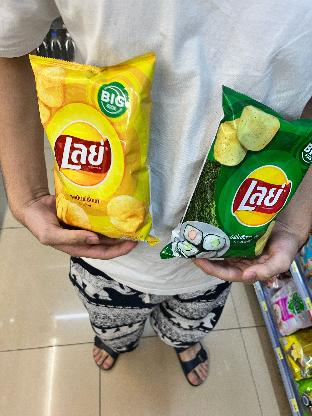Plastic Packaging: (21, 47, 165, 255), (162, 77, 312, 266)
